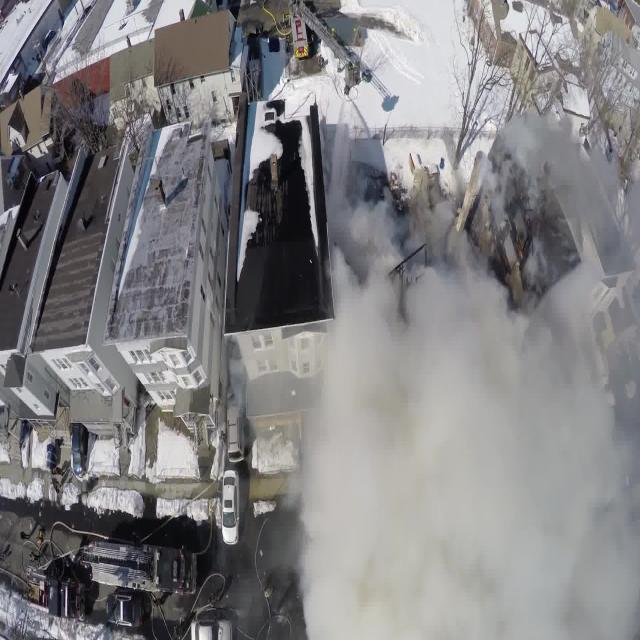Smoke: (324, 270, 640, 640), (511, 108, 638, 246)
